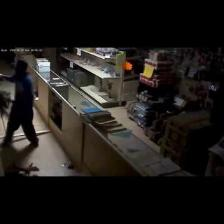person: (0, 61, 38, 146)
